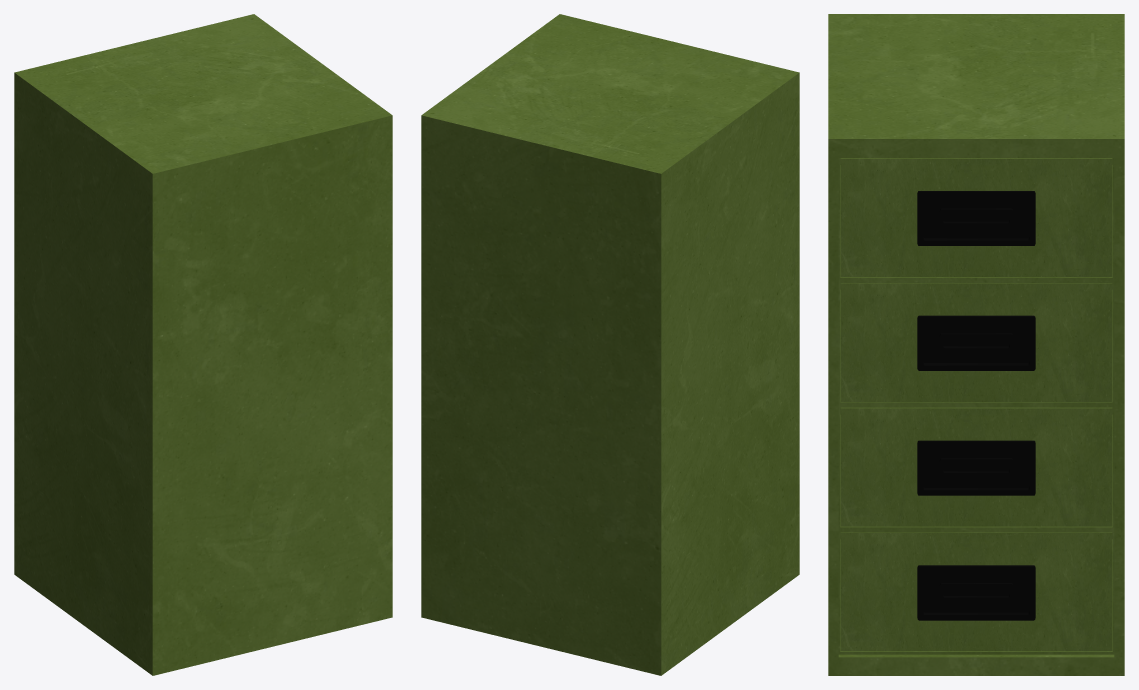
Rendered from green_filing_cabinet.glb.
The picture shows the model from 3 angles, left to right: view 1: azimuth 30°, elevation 25°; view 2: azimuth 150°, elevation 25°; view 3: azimuth 270°, elevation 25°; orthographic projection. The views are drawn at different scales.
Visible parts, largest first — view 1: green_filing_cabinet; view 2: green_filing_cabinet; view 3: green_filing_cabinet, drawer_2, drawer_1, drawer_3, drawer_4.
Part boxes in pixels (box(x1,y1,x2,y2)): green_filing_cabinet: box(14, 14, 392, 675); green_filing_cabinet: box(421, 14, 799, 675); green_filing_cabinet: box(828, 14, 1124, 675); drawer_2: box(840, 407, 1112, 526); drawer_1: box(840, 532, 1112, 651); drawer_3: box(840, 283, 1112, 401); drawer_4: box(840, 158, 1112, 276).
Size of the model in its own units: 0.5 by 1 by 0.5.
Materials: 2 (2 with a texture image).
